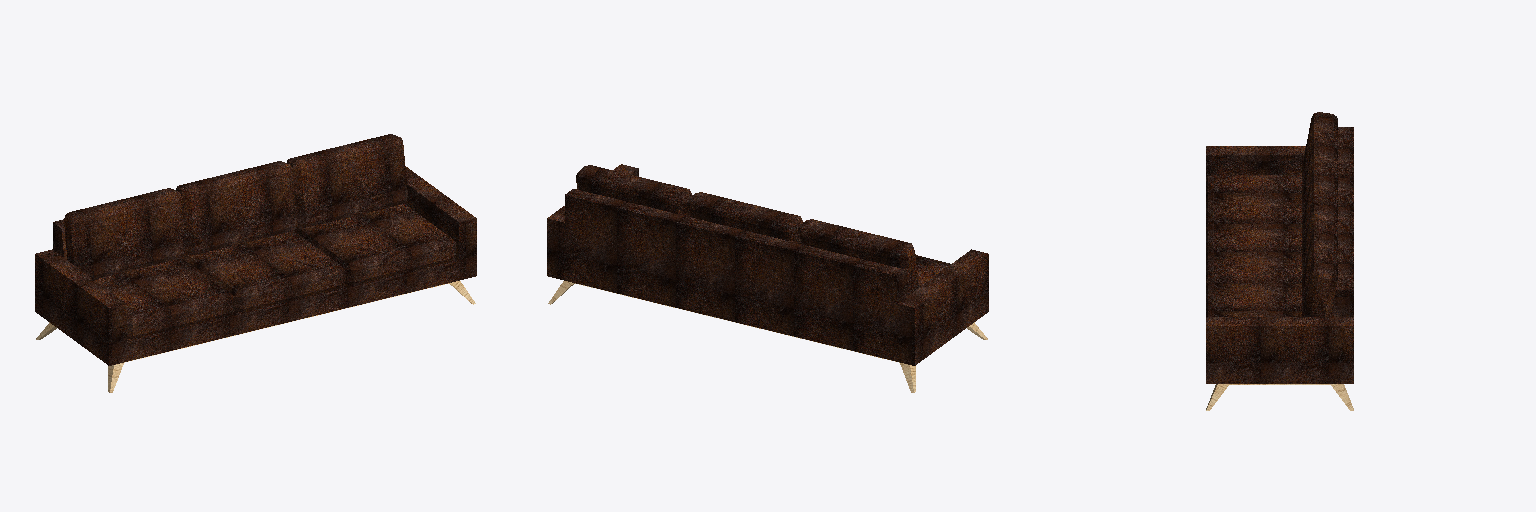
3 views of the same model, side by side, from view 1: azimuth 30°, elevation 25°; view 2: azimuth 150°, elevation 25°; view 3: azimuth 270°, elevation 25° (orthographic).
Visible parts, largest first — view 1: Box01; view 2: Box01; view 3: Box01.
Part boxes in pixels (x1,y1,x2,y2): Box01: (35,134,476,392); Box01: (547,164,988,392); Box01: (1206,112,1353,410).
Bounding box in the file's own units: 3.9 × 1.33 × 1.36.
Materials: 2 (2 with a texture image).